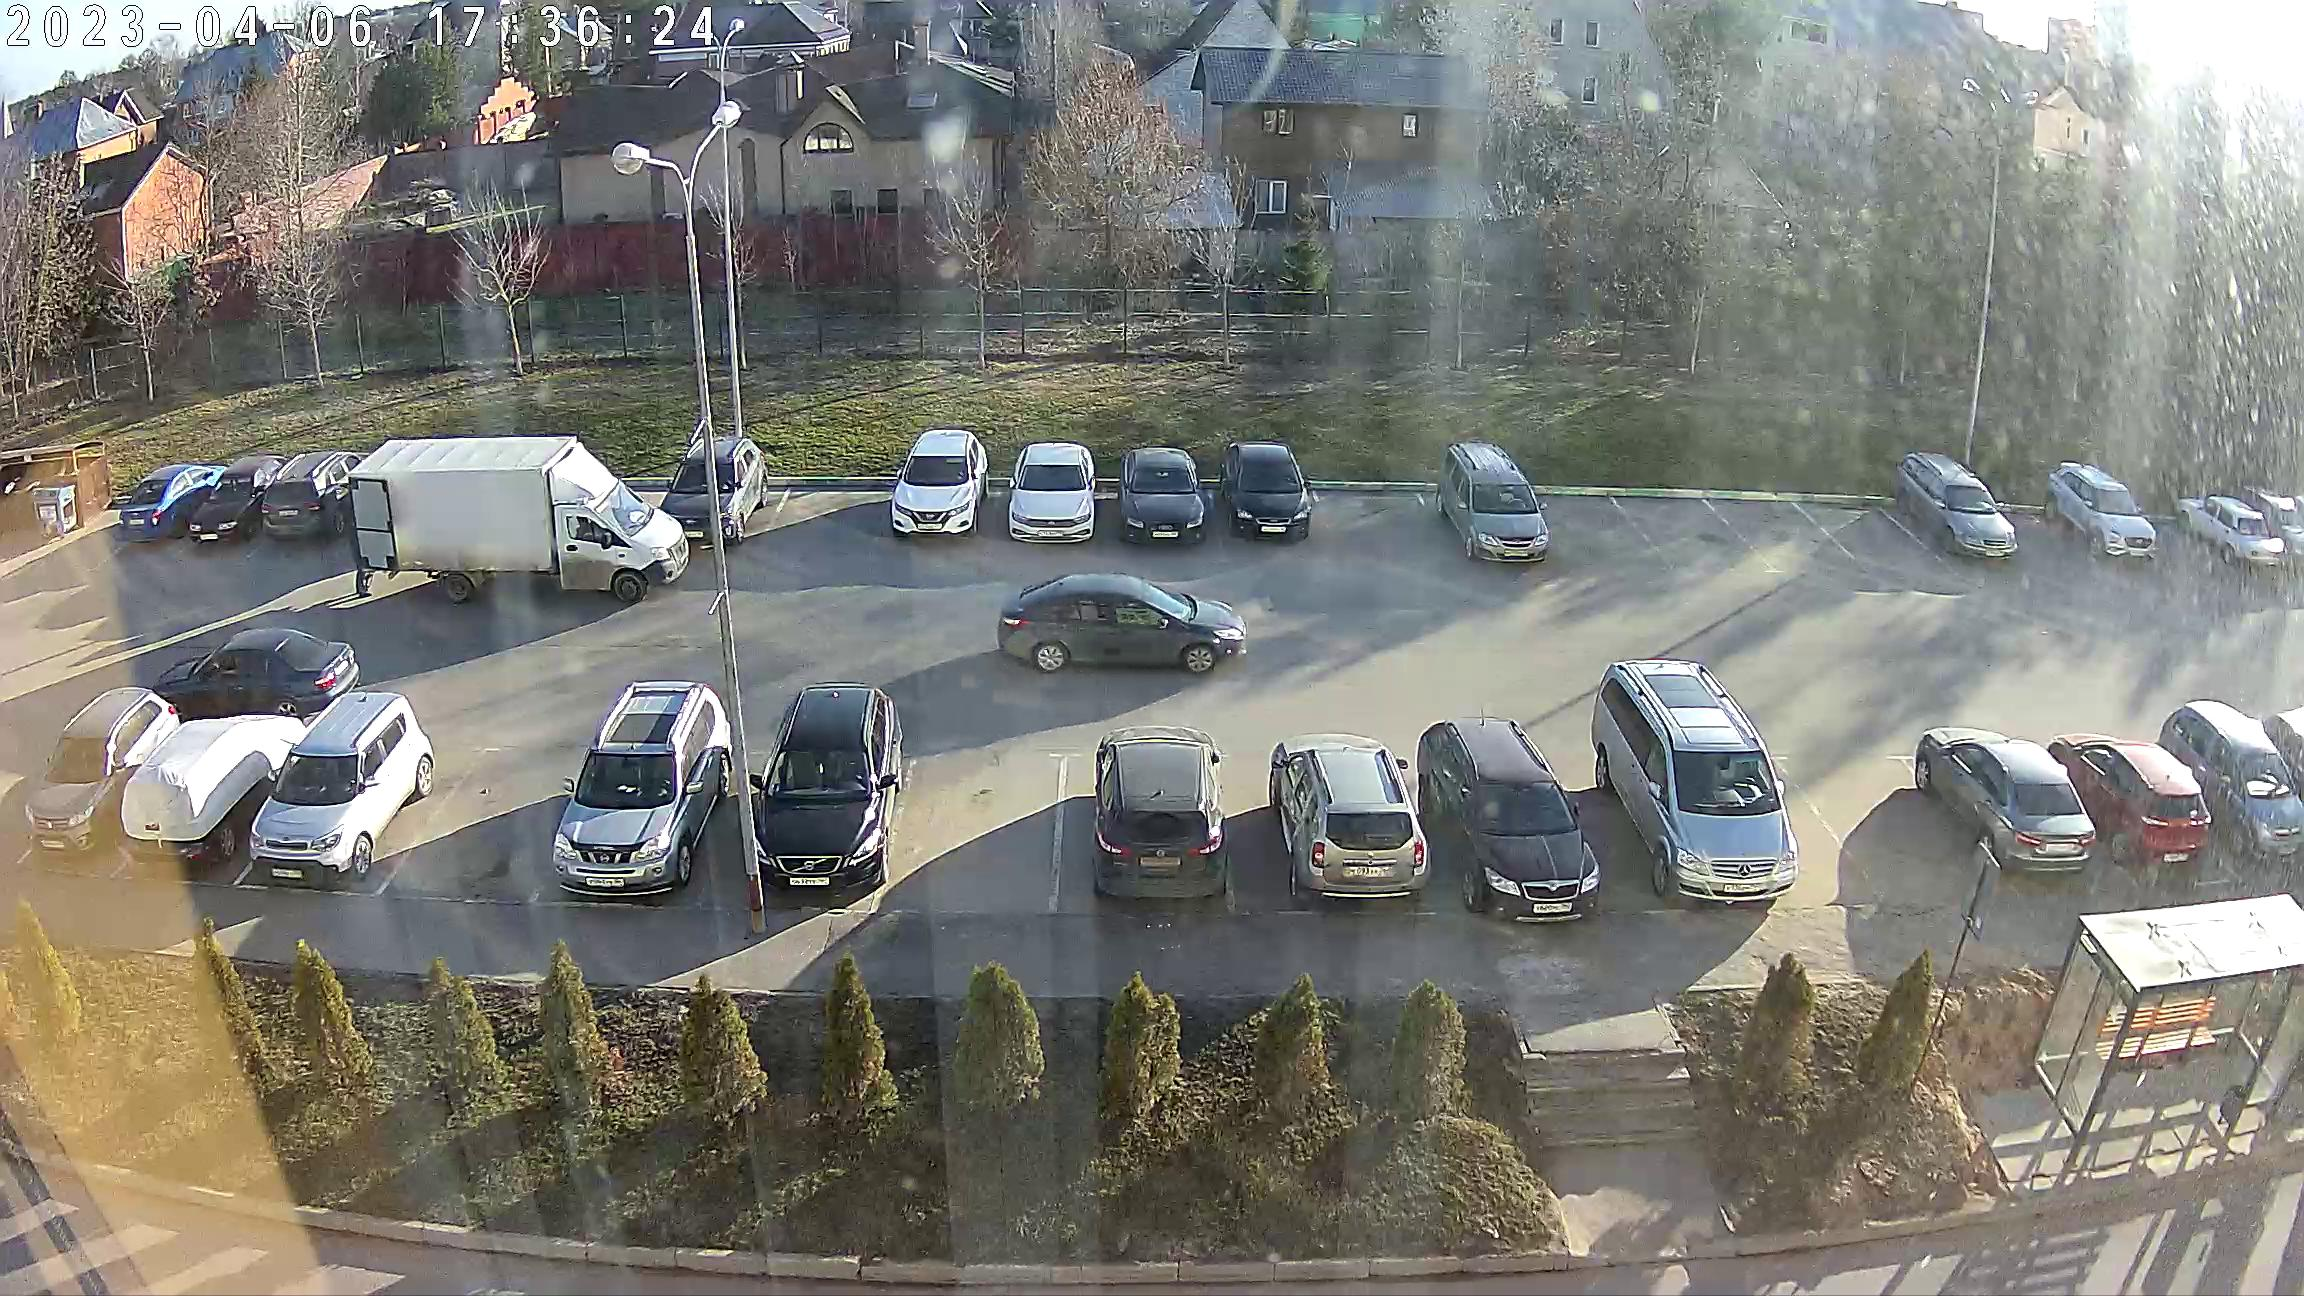empty: (1571, 671, 1815, 907), (342, 440, 688, 593), (222, 699, 443, 886), (535, 679, 726, 894), (1437, 722, 1638, 924), (729, 684, 927, 885), (1263, 737, 1461, 905), (1067, 734, 1250, 902), (995, 578, 1266, 680), (1916, 742, 2116, 867), (103, 718, 271, 858), (21, 692, 169, 847), (2076, 736, 2230, 859), (2185, 714, 2296, 864), (1435, 453, 1581, 563), (1894, 457, 2052, 559), (872, 435, 1000, 541), (1201, 448, 1336, 546), (984, 448, 1111, 549), (2043, 467, 2179, 559), (1100, 451, 1222, 549), (212, 460, 356, 543), (2171, 491, 2304, 567), (122, 460, 218, 552)
occupied: (877, 736, 1108, 916), (389, 737, 597, 907), (1782, 733, 1957, 892), (1712, 454, 1825, 593), (774, 462, 902, 568), (1617, 472, 1737, 582), (1307, 465, 1438, 562), (1530, 454, 1624, 571), (1804, 472, 1910, 571), (1980, 472, 2076, 574), (2113, 484, 2212, 582)
